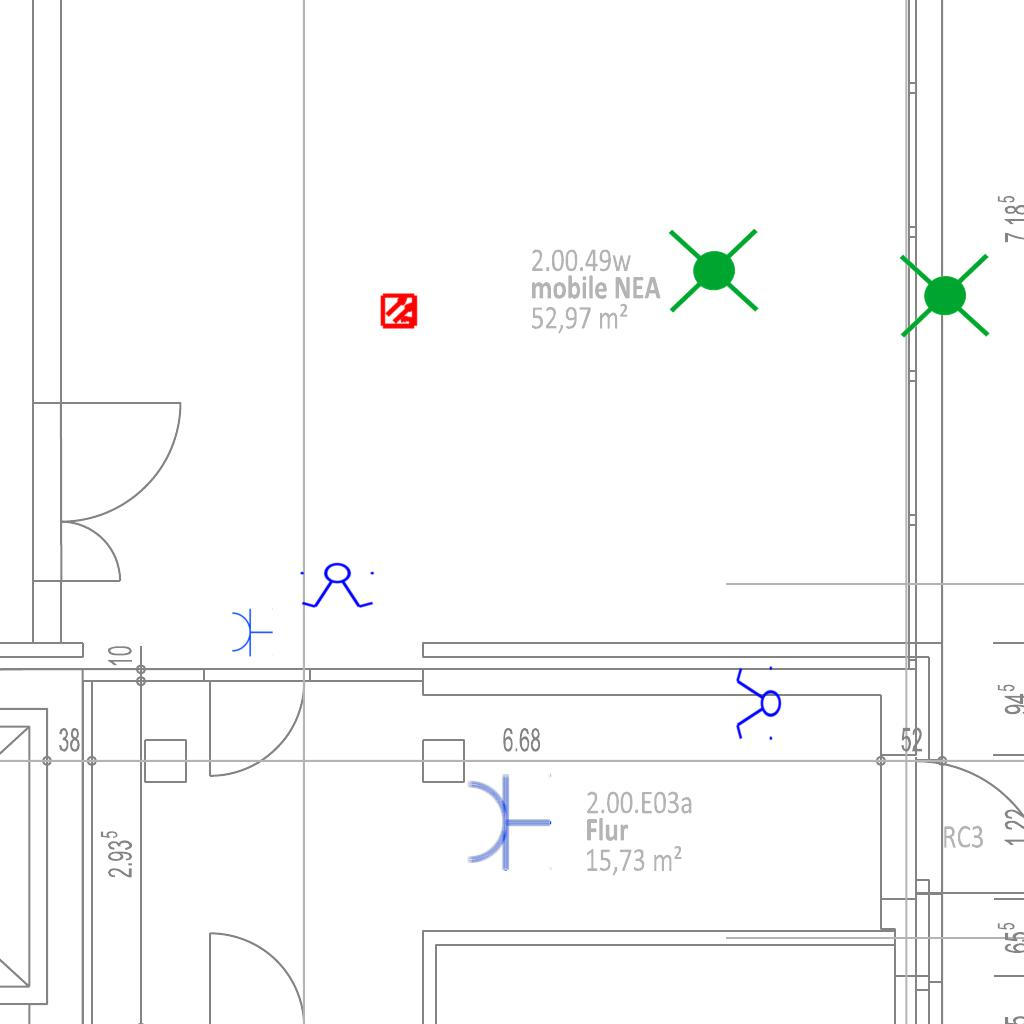Notlichtbaustein_in_Allgemeinbeleuchtug_engebaut_Einbau_(1UG_und_2UG_Aufbauvaria: (664, 218, 764, 321), (895, 243, 995, 346)
OT_Multisensormelder_(Kombination_RMO_WMD): (372, 283, 428, 339)
Schukosteckdose_einfach: (465, 772, 552, 872), (230, 607, 273, 657)
Serienschalter: (734, 662, 782, 746), (296, 562, 380, 610)
